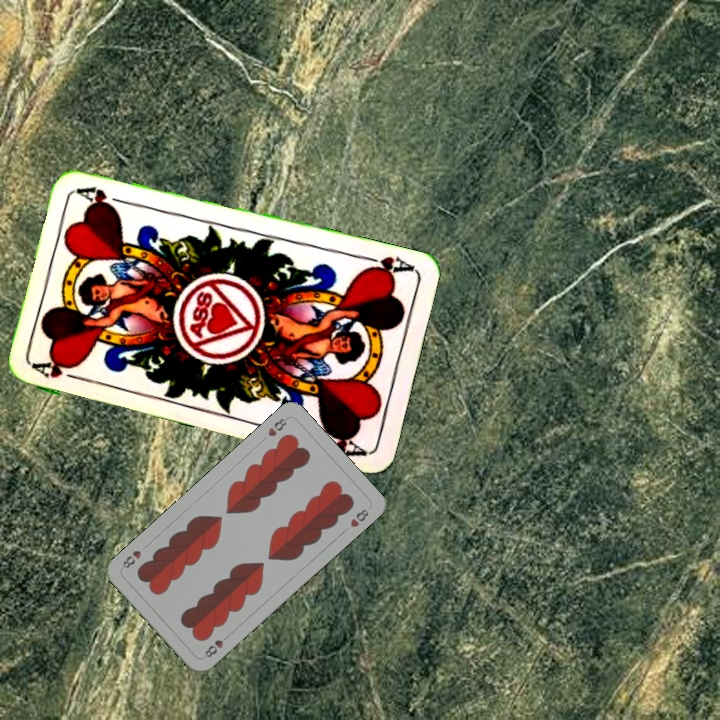H8: (199, 630, 233, 660), (264, 413, 291, 439)
HA: (356, 251, 415, 280), (30, 358, 89, 384)
